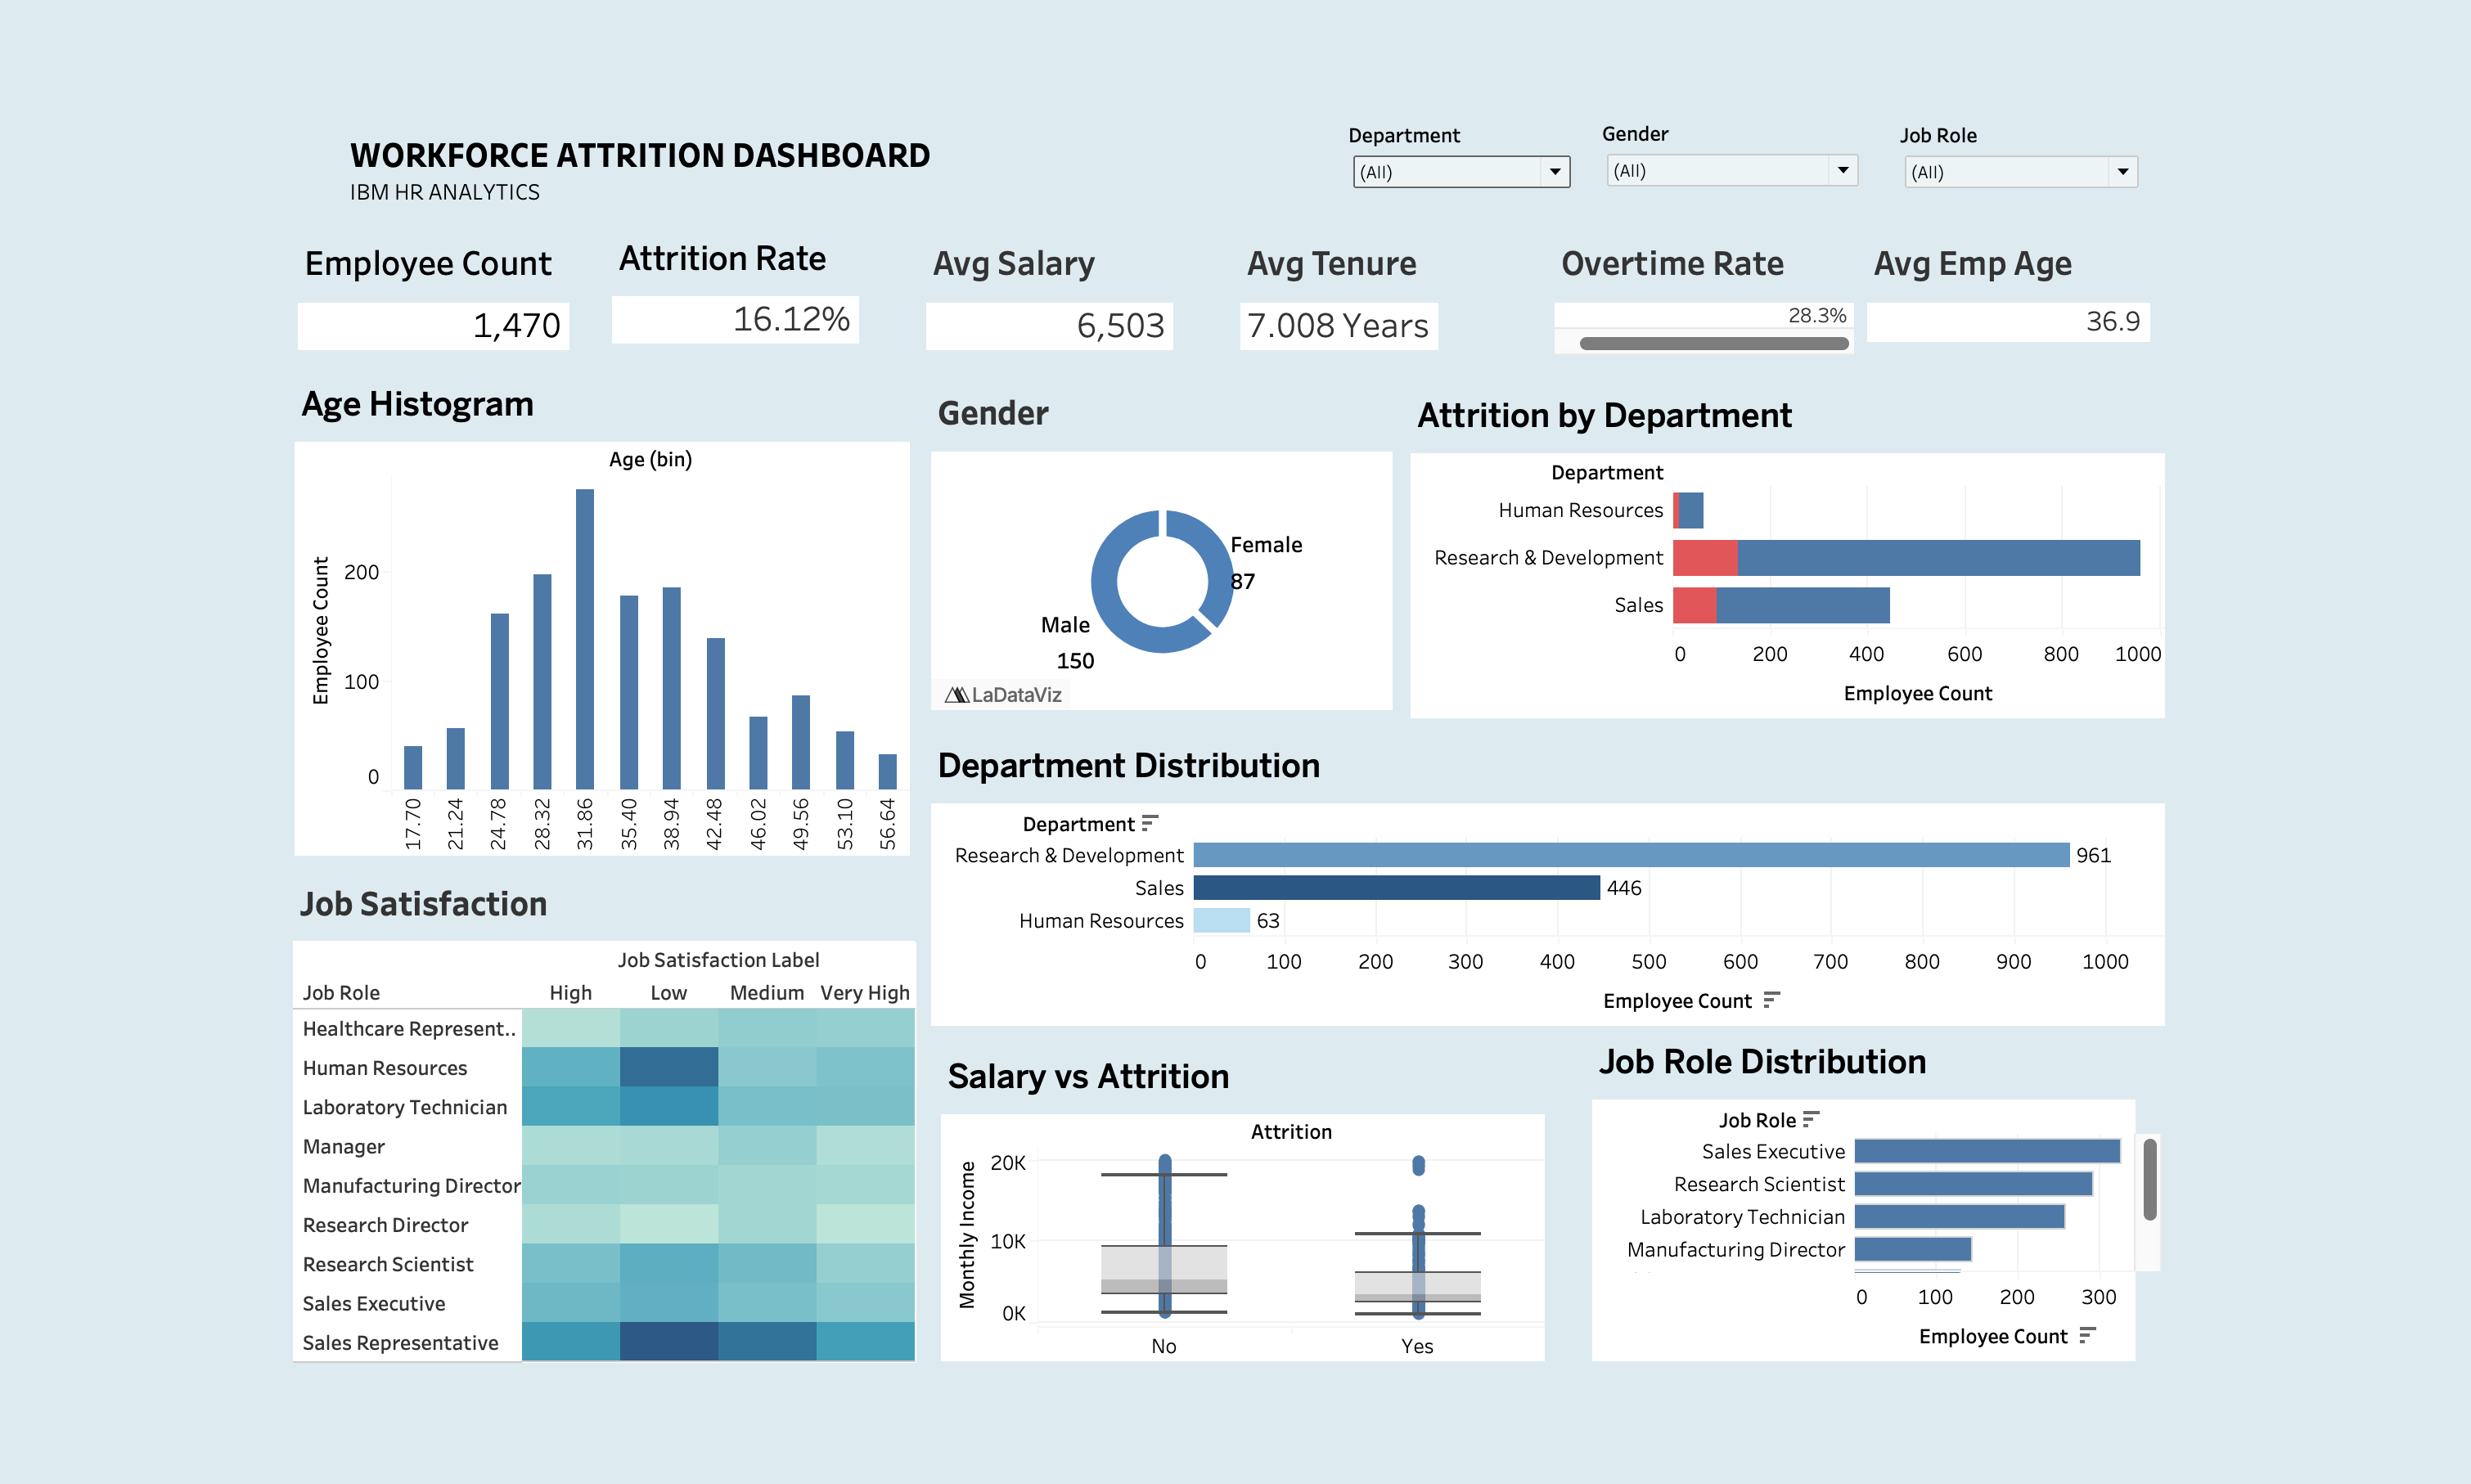

The page's visual inventory and layout, read from the dashboard file:
{"tool":"tableau","page":{"name":"Dashboard 1","canvas":[1200,800],"ordinal":0},"visuals":[{"type":"image","param":"/Users/syeddarainqamar/Downloads/ibm-logo-18910.png","box":[12,25,1174,64]},{"type":"text","box":[331,33,610,42]},{"type":"worksheet","title":"Attrition Rate","mark":"Automatic","box":[186,93,157,79]},{"type":"filter","title":"Department Distribution","param":"[federated.15zcqny07ps8hw1gnrd3c0x3una7].[none:JobRole:nk]","box":[1046,93,149,77]},{"type":"worksheet","title":"Employee Count","mark":"Automatic","box":[13,94,162,77]},{"type":"worksheet","title":"Avg Salary","mark":"Automatic","box":[353,94,199,81]},{"type":"worksheet","title":"Avg Tenure","mark":"Automatic","box":[563,94,166,80]},{"type":"filter","title":"Department Distribution","param":"[federated.15zcqny07ps8hw1gnrd3c0x3una7].[none:Gender:nk]","box":[735,95,160,78]},{"type":"filter","title":"Department Distribution","param":"[federated.15zcqny07ps8hw1gnrd3c0x3una7].[none:Department:nk]","box":[901,95,139,77]},{"type":"worksheet","title":"Department Distribution","mark":"Bar","rows":["Department"],"cols":["Calculation_4011692683427841"],"box":[13,180,560,291]},{"type":"worksheet","title":"Attrition by Department","mark":"Automatic","rows":["Department"],"cols":["Calculation_4011692683427841"],"box":[580,181,608,287]},{"type":"worksheet","title":"Age Histogram","mark":"Bar","rows":["Calculation_4011692683427841"],"cols":["Age (bin)"],"box":[13,478,399,306]},{"type":"worksheet","title":"Salary vs Attrition","mark":"Circle","rows":["MonthlyIncome"],"cols":["Attrition"],"box":[419,480,406,301]},{"type":"worksheet","title":"Job Role Distribution","mark":"Automatic","rows":["JobRole"],"cols":["Calculation_4011692683427841"],"box":[831,481,354,298]}]}

Visuals, with their boxes on the page's 1200x800 design canvas (x1, y1, x2, y2). These are canvas units, not pixel positions in the 2471x1484 screenshot, which may show the page scaled, cropped or inside an application window:
image: select_region(12, 25, 1186, 89)
text: select_region(331, 33, 941, 75)
"Attrition Rate" worksheet: select_region(186, 93, 343, 172)
"Department Distribution" filter: select_region(1046, 93, 1195, 170)
"Employee Count" worksheet: select_region(13, 94, 175, 171)
"Avg Salary" worksheet: select_region(353, 94, 552, 175)
"Avg Tenure" worksheet: select_region(563, 94, 729, 174)
"Department Distribution" filter: select_region(735, 95, 895, 173)
"Department Distribution" filter: select_region(901, 95, 1040, 172)
"Department Distribution" worksheet (Bar marks): select_region(13, 180, 573, 471)
"Attrition by Department" worksheet: select_region(580, 181, 1188, 468)
"Age Histogram" worksheet (Bar marks): select_region(13, 478, 412, 784)
"Salary vs Attrition" worksheet (Circle marks): select_region(419, 480, 825, 781)
"Job Role Distribution" worksheet: select_region(831, 481, 1185, 779)
